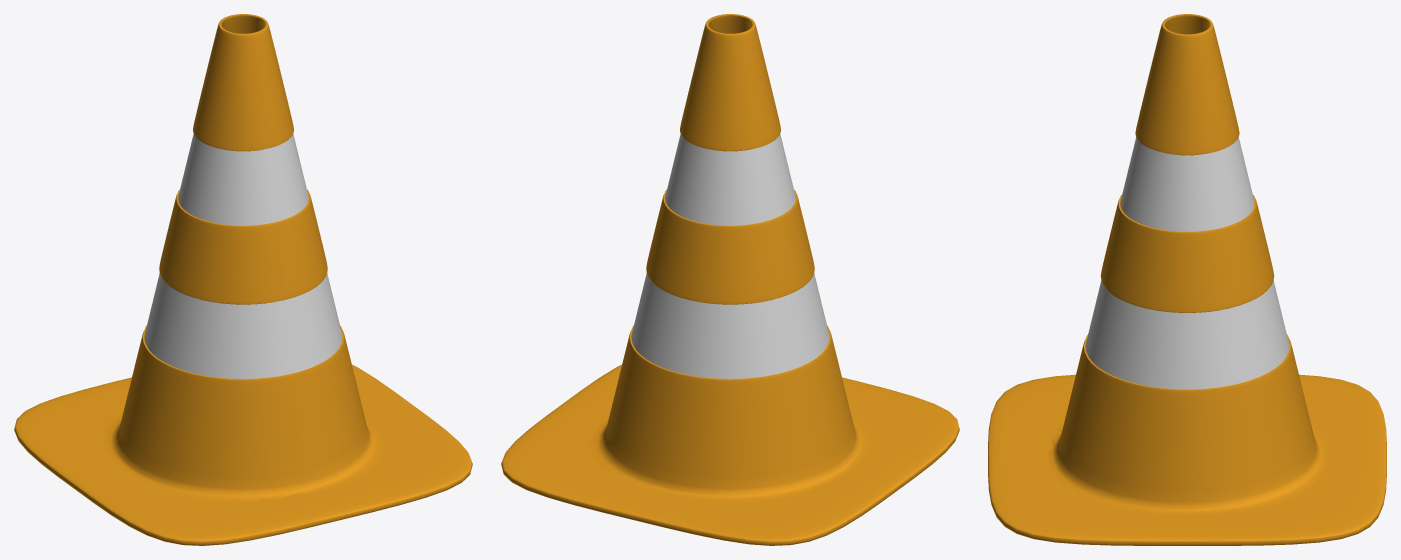
Rendered from conito.fbx.
The picture shows the model from 3 angles, left to right: view 1: azimuth 30°, elevation 25°; view 2: azimuth 150°, elevation 25°; view 3: azimuth 270°, elevation 25°; orthographic projection. The views are drawn at different scales.
Visible parts, largest first — view 1: Traffic_c0, Traffic_c1; view 2: Traffic_c0, Traffic_c1; view 3: Traffic_c0, Traffic_c1.
Boxes of the visible parts, <box> form: Traffic_c0: <box>14,14,472,545</box>; Traffic_c1: <box>144,134,342,378</box>; Traffic_c0: <box>501,14,959,545</box>; Traffic_c1: <box>631,134,829,378</box>; Traffic_c0: <box>988,14,1386,545</box>; Traffic_c1: <box>1085,137,1289,389</box>.
Size of the model in its own units: 19.84 by 24.09 by 19.84.
